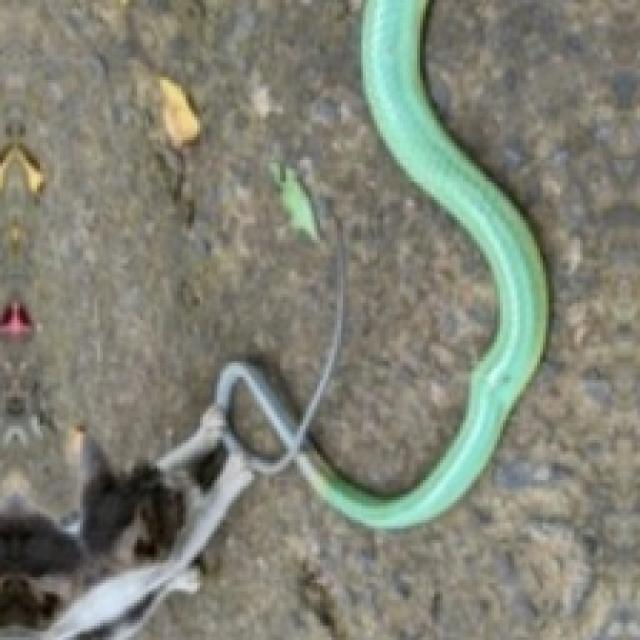red-tailed green ratsnake: (215, 0, 549, 528)
